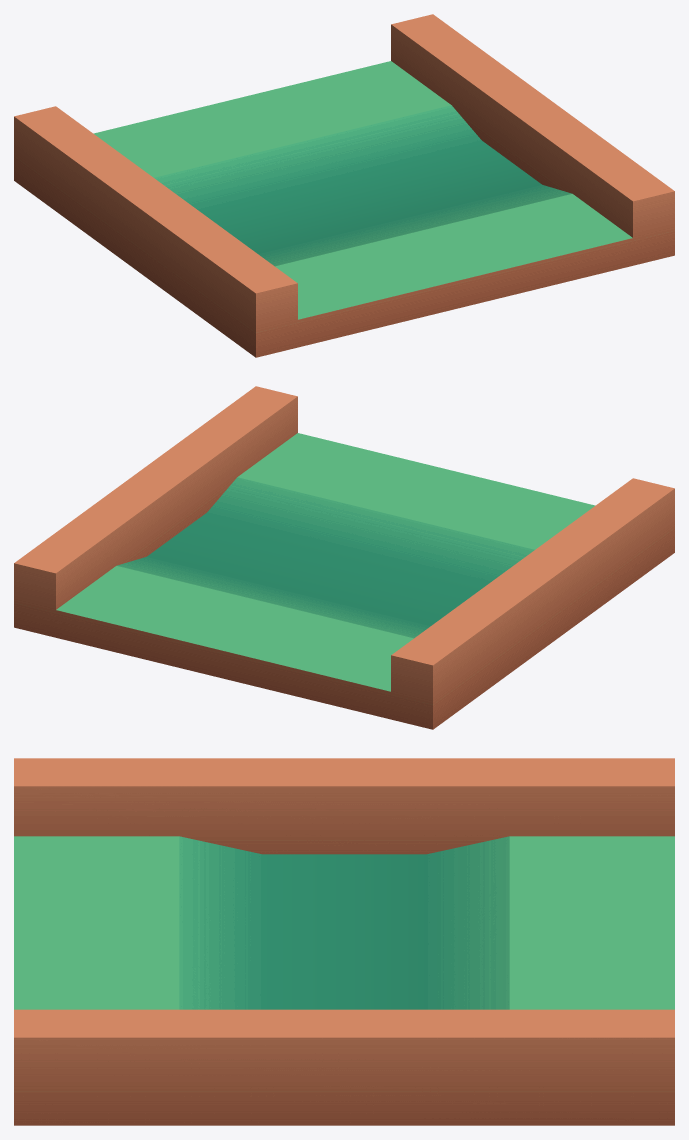
Rendered from crest.glb.
The picture shows the model from 3 angles, top to bottom: view 1: azimuth 30°, elevation 25°; view 2: azimuth 150°, elevation 25°; view 3: azimuth 270°, elevation 25°; orthographic projection. The views are drawn at different scales.
Visible parts, largest first — view 1: crest; view 2: crest; view 3: crest.
Part boxes in pixels (bbox=[...]): crest: bbox=[14, 14, 674, 357]; crest: bbox=[14, 386, 674, 729]; crest: bbox=[14, 758, 674, 1125].
Bounding box in the file's own units: 0.9999 × 0.1467 × 0.9999.
1 material, 1 textured.
